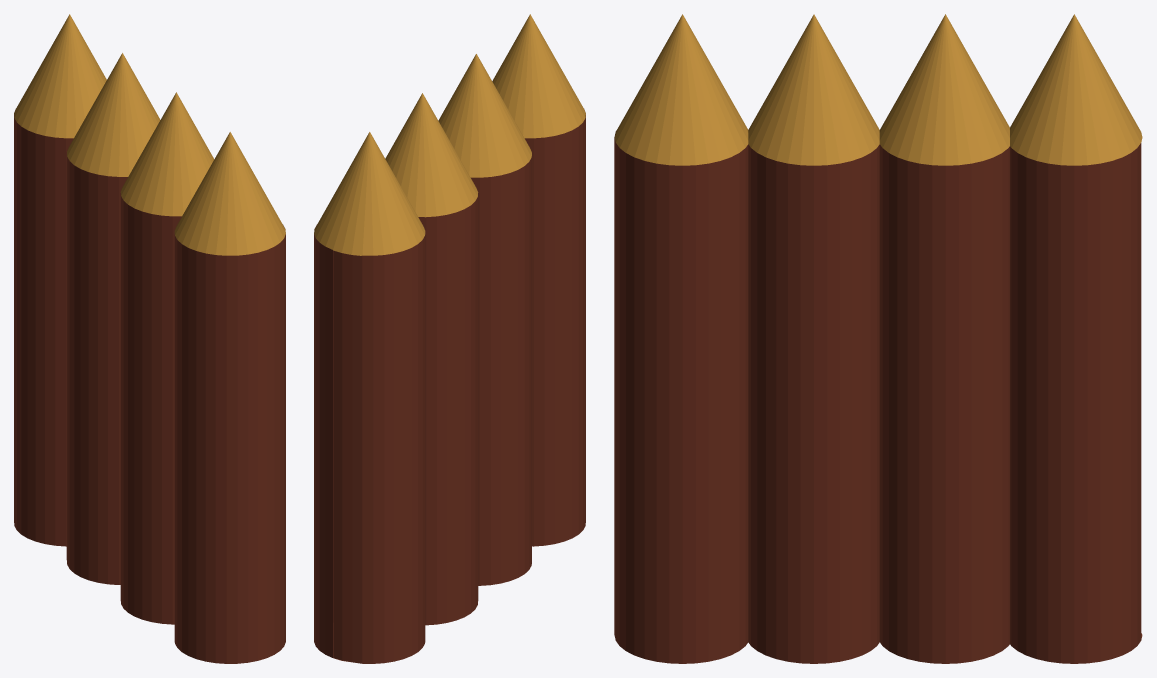
File: Muralhademadeira(2).fbx
3 views of the same model, side by side, from view 1: azimuth 30°, elevation 25°; view 2: azimuth 150°, elevation 25°; view 3: azimuth 270°, elevation 25° (orthographic). The views are drawn at different scales.
Visible parts, largest first — view 1: Cone.002; view 2: Cone.002; view 3: Cone.002.
Part boxes in pixels (bbox=[...]): Cone.002: bbox=[14, 14, 285, 663]; Cone.002: bbox=[314, 14, 585, 663]; Cone.002: bbox=[614, 14, 1142, 663].
Bounding box in the file's own units: 200 × 1006 × 775.
